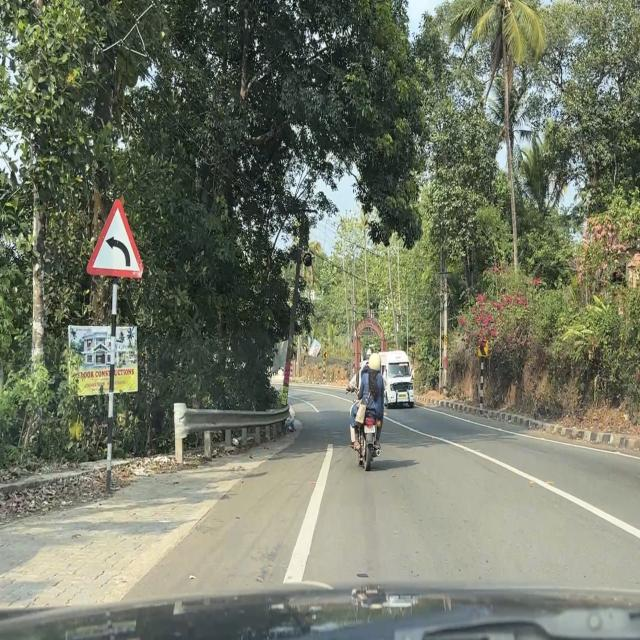LEFT_TURN_AHEAD: (86, 197, 145, 281)
TURN_LEFT: (478, 340, 488, 358)
